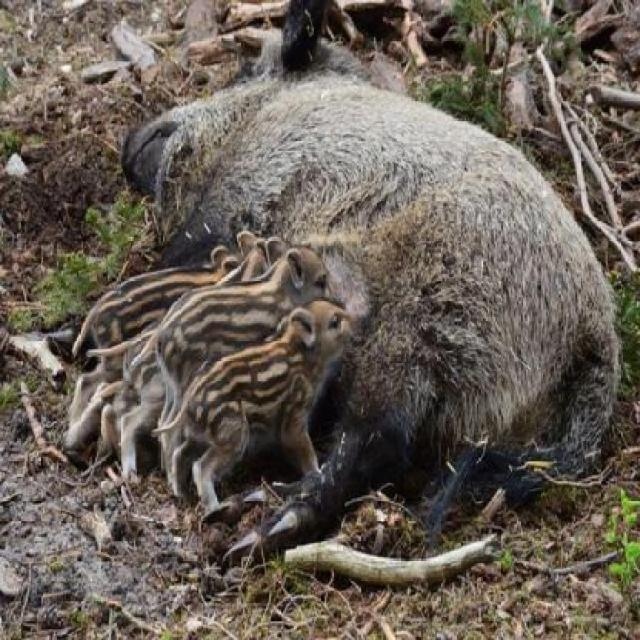wildboar: (109, 36, 623, 572), (106, 237, 345, 494), (57, 219, 300, 458), (163, 294, 362, 518), (68, 224, 246, 385)
